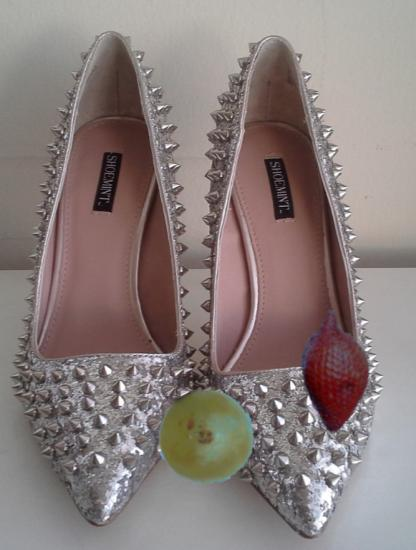Grape: (157, 388, 254, 485)
Salak: (272, 307, 399, 434)
